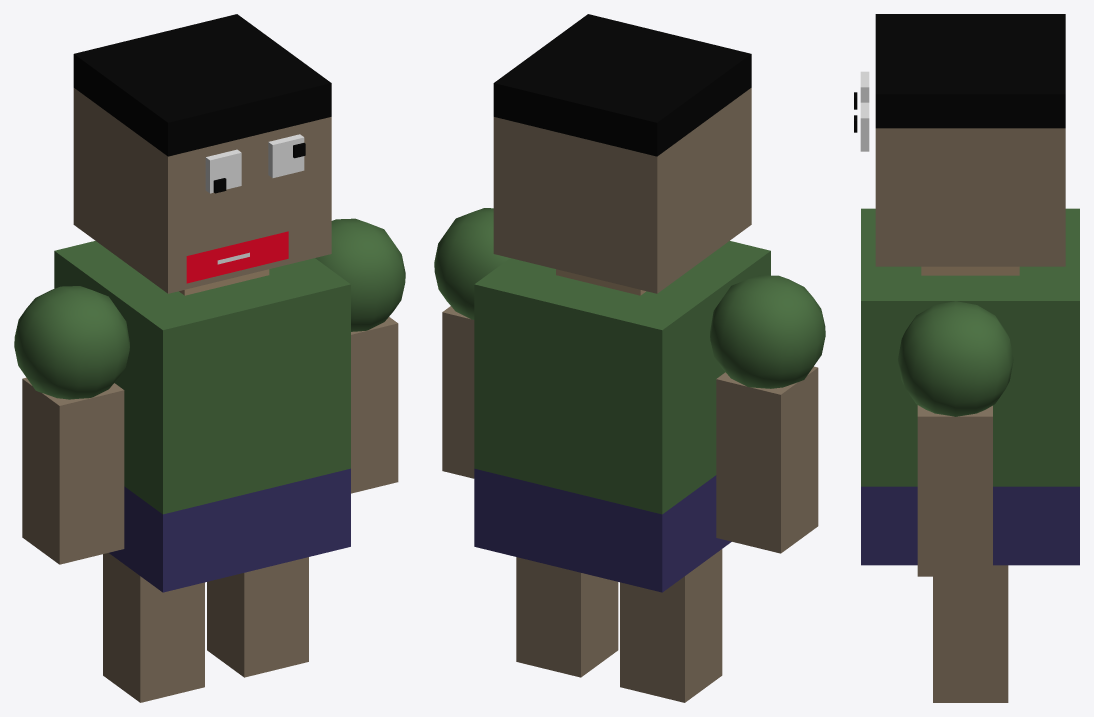
File: ikare2.fbx
3 views of the same model, side by side, from view 1: azimuth 30°, elevation 25°; view 2: azimuth 150°, elevation 25°; view 3: azimuth 270°, elevation 25° (orthographic).
Visible parts, largest first — view 1: polySurface2, polySurface3, pCube10, polySurface4, polySurface1, pCube11, pCube8, pCube9, pPlane1, pCube12, pCube13; view 2: polySurface2, polySurface3, polySurface4, pCube10, polySurface1, pCube11, pCube8, pCube9; view 3: polySurface2, polySurface3, polySurface4, pCube10, polySurface1, pCube11, pCube9, pCube3, pCube13.
Part boxes in pixels (bbox=[...]): polySurface2: bbox=[54, 241, 350, 514]; polySurface3: bbox=[73, 88, 331, 293]; pCube10: bbox=[22, 317, 398, 564]; polySurface4: bbox=[73, 14, 331, 156]; polySurface1: bbox=[109, 468, 350, 592]; pCube11: bbox=[14, 218, 405, 399]; pCube8: bbox=[103, 553, 204, 702]; pCube9: bbox=[207, 557, 308, 677]; pPlane1: bbox=[186, 231, 288, 283]; pCube12: bbox=[205, 149, 241, 193]; pCube13: bbox=[268, 134, 304, 177]; polySurface2: bbox=[474, 241, 770, 514]; polySurface3: bbox=[493, 88, 751, 293]; polySurface4: bbox=[493, 14, 751, 156]; pCube10: bbox=[442, 306, 818, 553]; polySurface1: bbox=[474, 468, 731, 592]; pCube11: bbox=[434, 208, 825, 388]; pCube8: bbox=[620, 549, 722, 702]; pCube9: bbox=[516, 557, 618, 677]; polySurface2: bbox=[861, 208, 1079, 486]; polySurface3: bbox=[875, 128, 1065, 266]; polySurface4: bbox=[875, 14, 1065, 128]; pCube10: bbox=[917, 405, 992, 576]; polySurface1: bbox=[861, 486, 1079, 565]; pCube11: bbox=[898, 301, 1013, 416]; pCube9: bbox=[933, 565, 1008, 702]; pCube3: bbox=[921, 266, 1019, 275]; pCube13: bbox=[860, 102, 869, 151].
Bounding box in the file's own units: 59.86 × 91.64 × 30.97.
